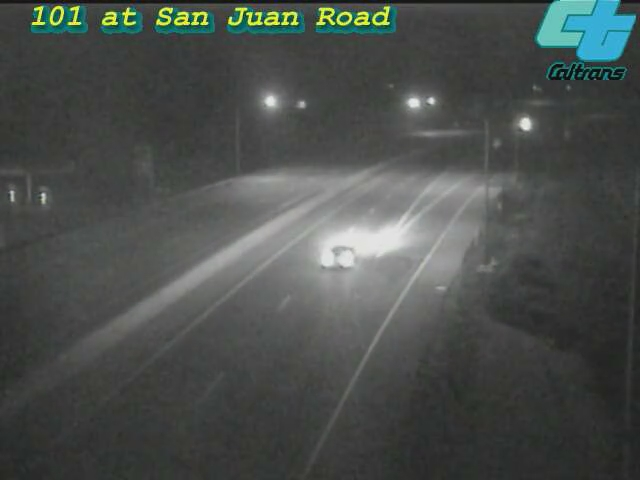vehicle: (296, 217, 376, 297), (499, 100, 549, 150)
